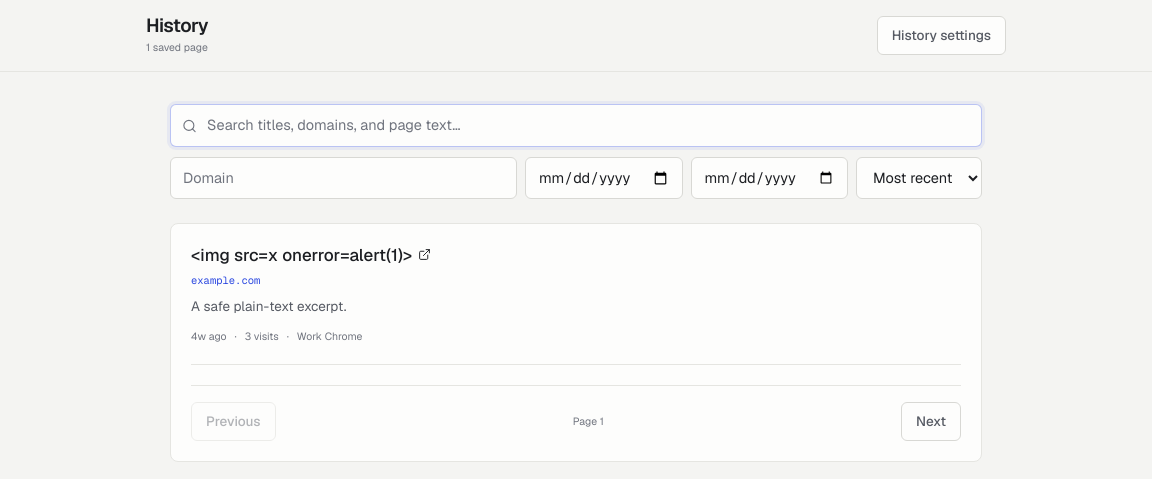
Test: HistoryPage › moves through cursor pages and resets pagination when filters change
The width and height of the screenshot is (1152, 479).
Expected: the text "Page 1" is shown, [573,413,604,430]
Expected: the button "Previous" is disabled, [191,402,276,441]
Click the button "Next" at (931, 421), box [901,402,961,441]
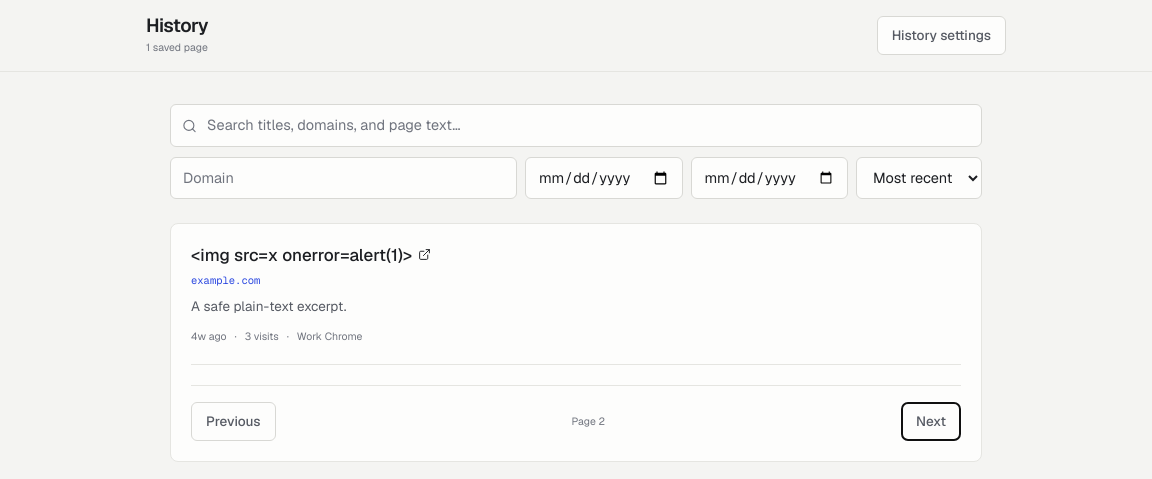
Expected: the text "Page 2" is shown, [572,413,605,430]
Click the button "Previous" at (233, 421), box [191,402,276,441]
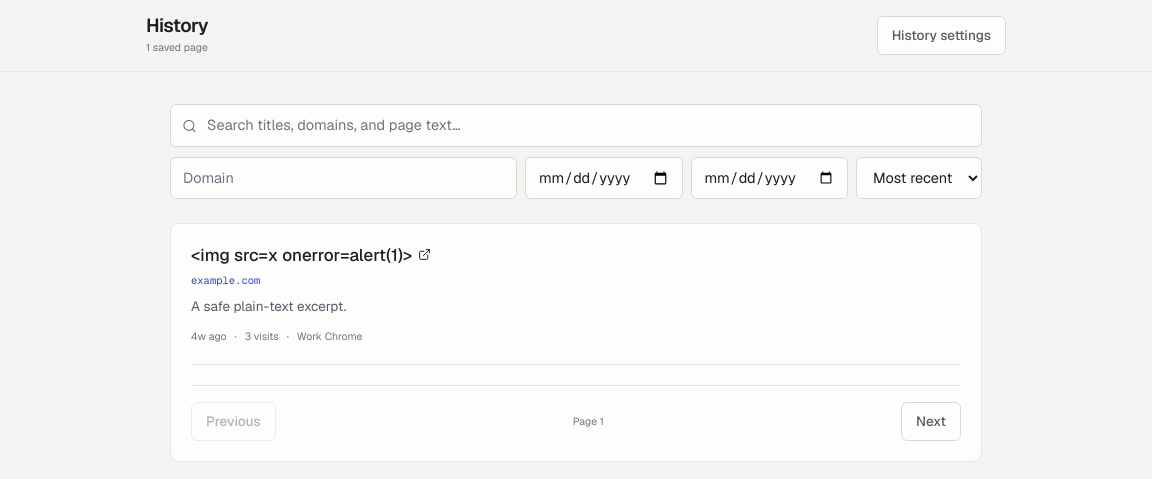
Expected: the text "Page 1" is shown, [573,413,604,430]
Click the button "Next" at (931, 421), box [901,402,961,441]
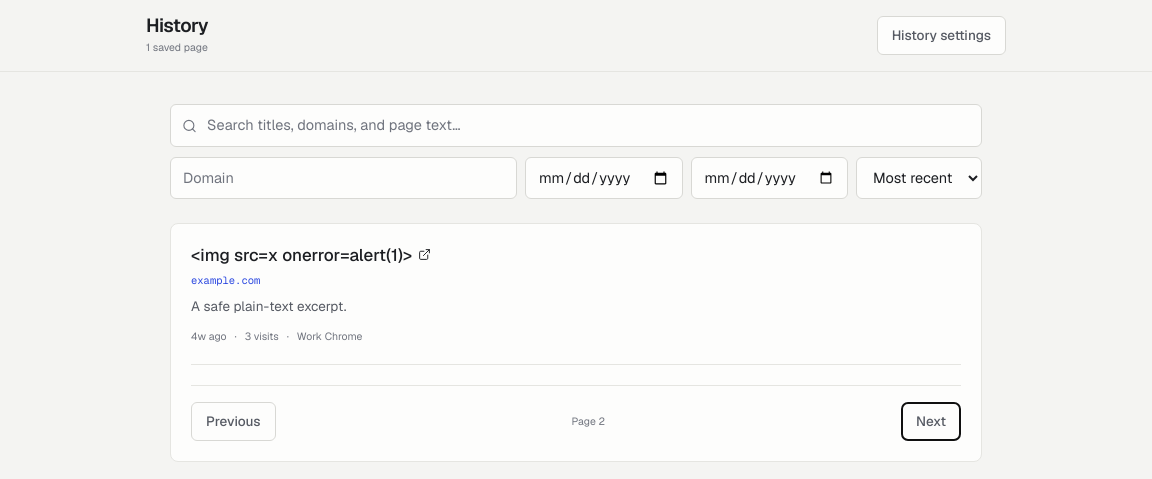
Type "postgres" into the search field named "Search browser history" at (576, 126), box [170,104,982,147]
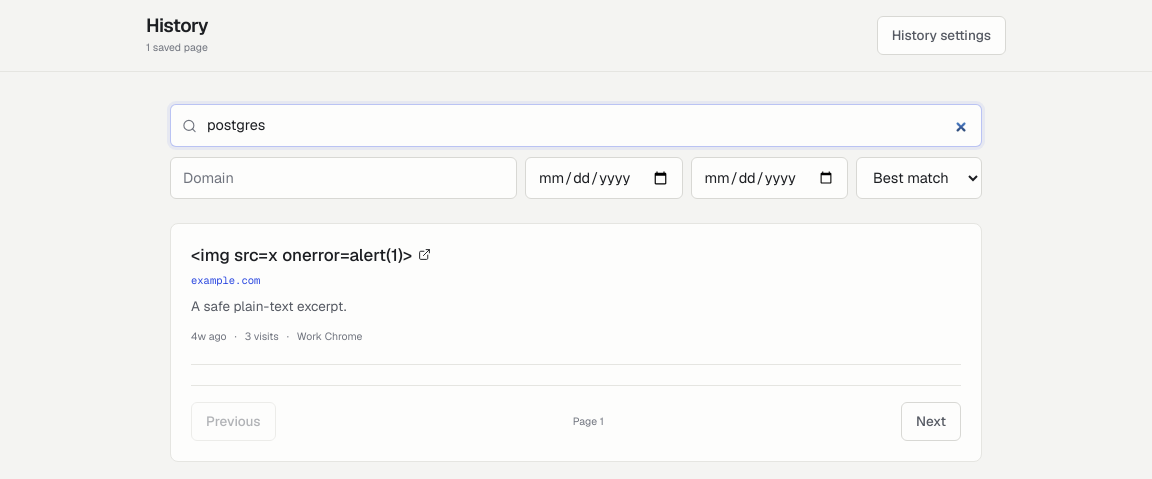
Expected: the text "Page 1" is shown, [573,413,604,430]
